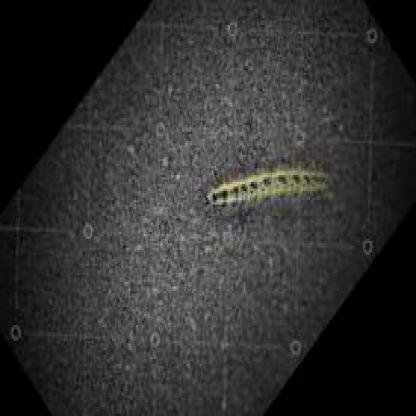pieris: (206, 162, 340, 212)
